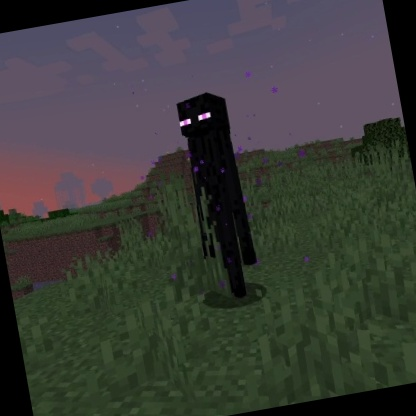enderman: (171, 85, 268, 306)
